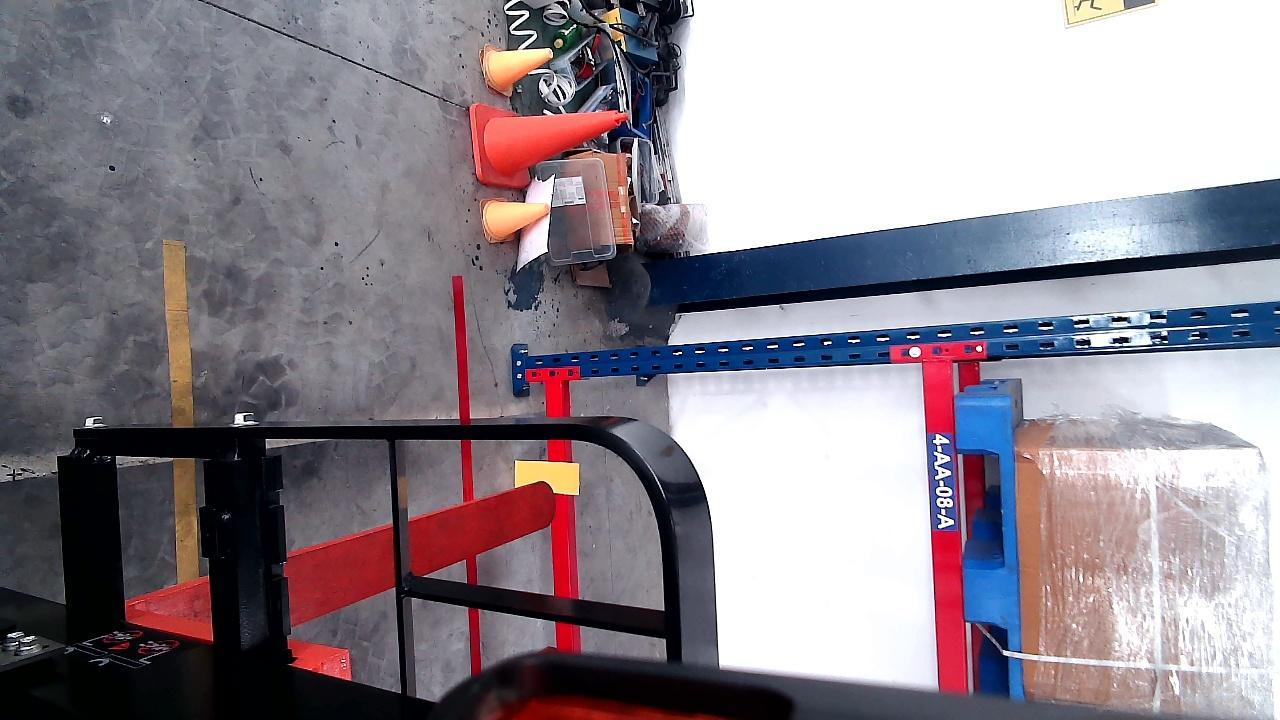red_line: (452, 274, 488, 674)
yellow_line: (163, 236, 201, 585)
